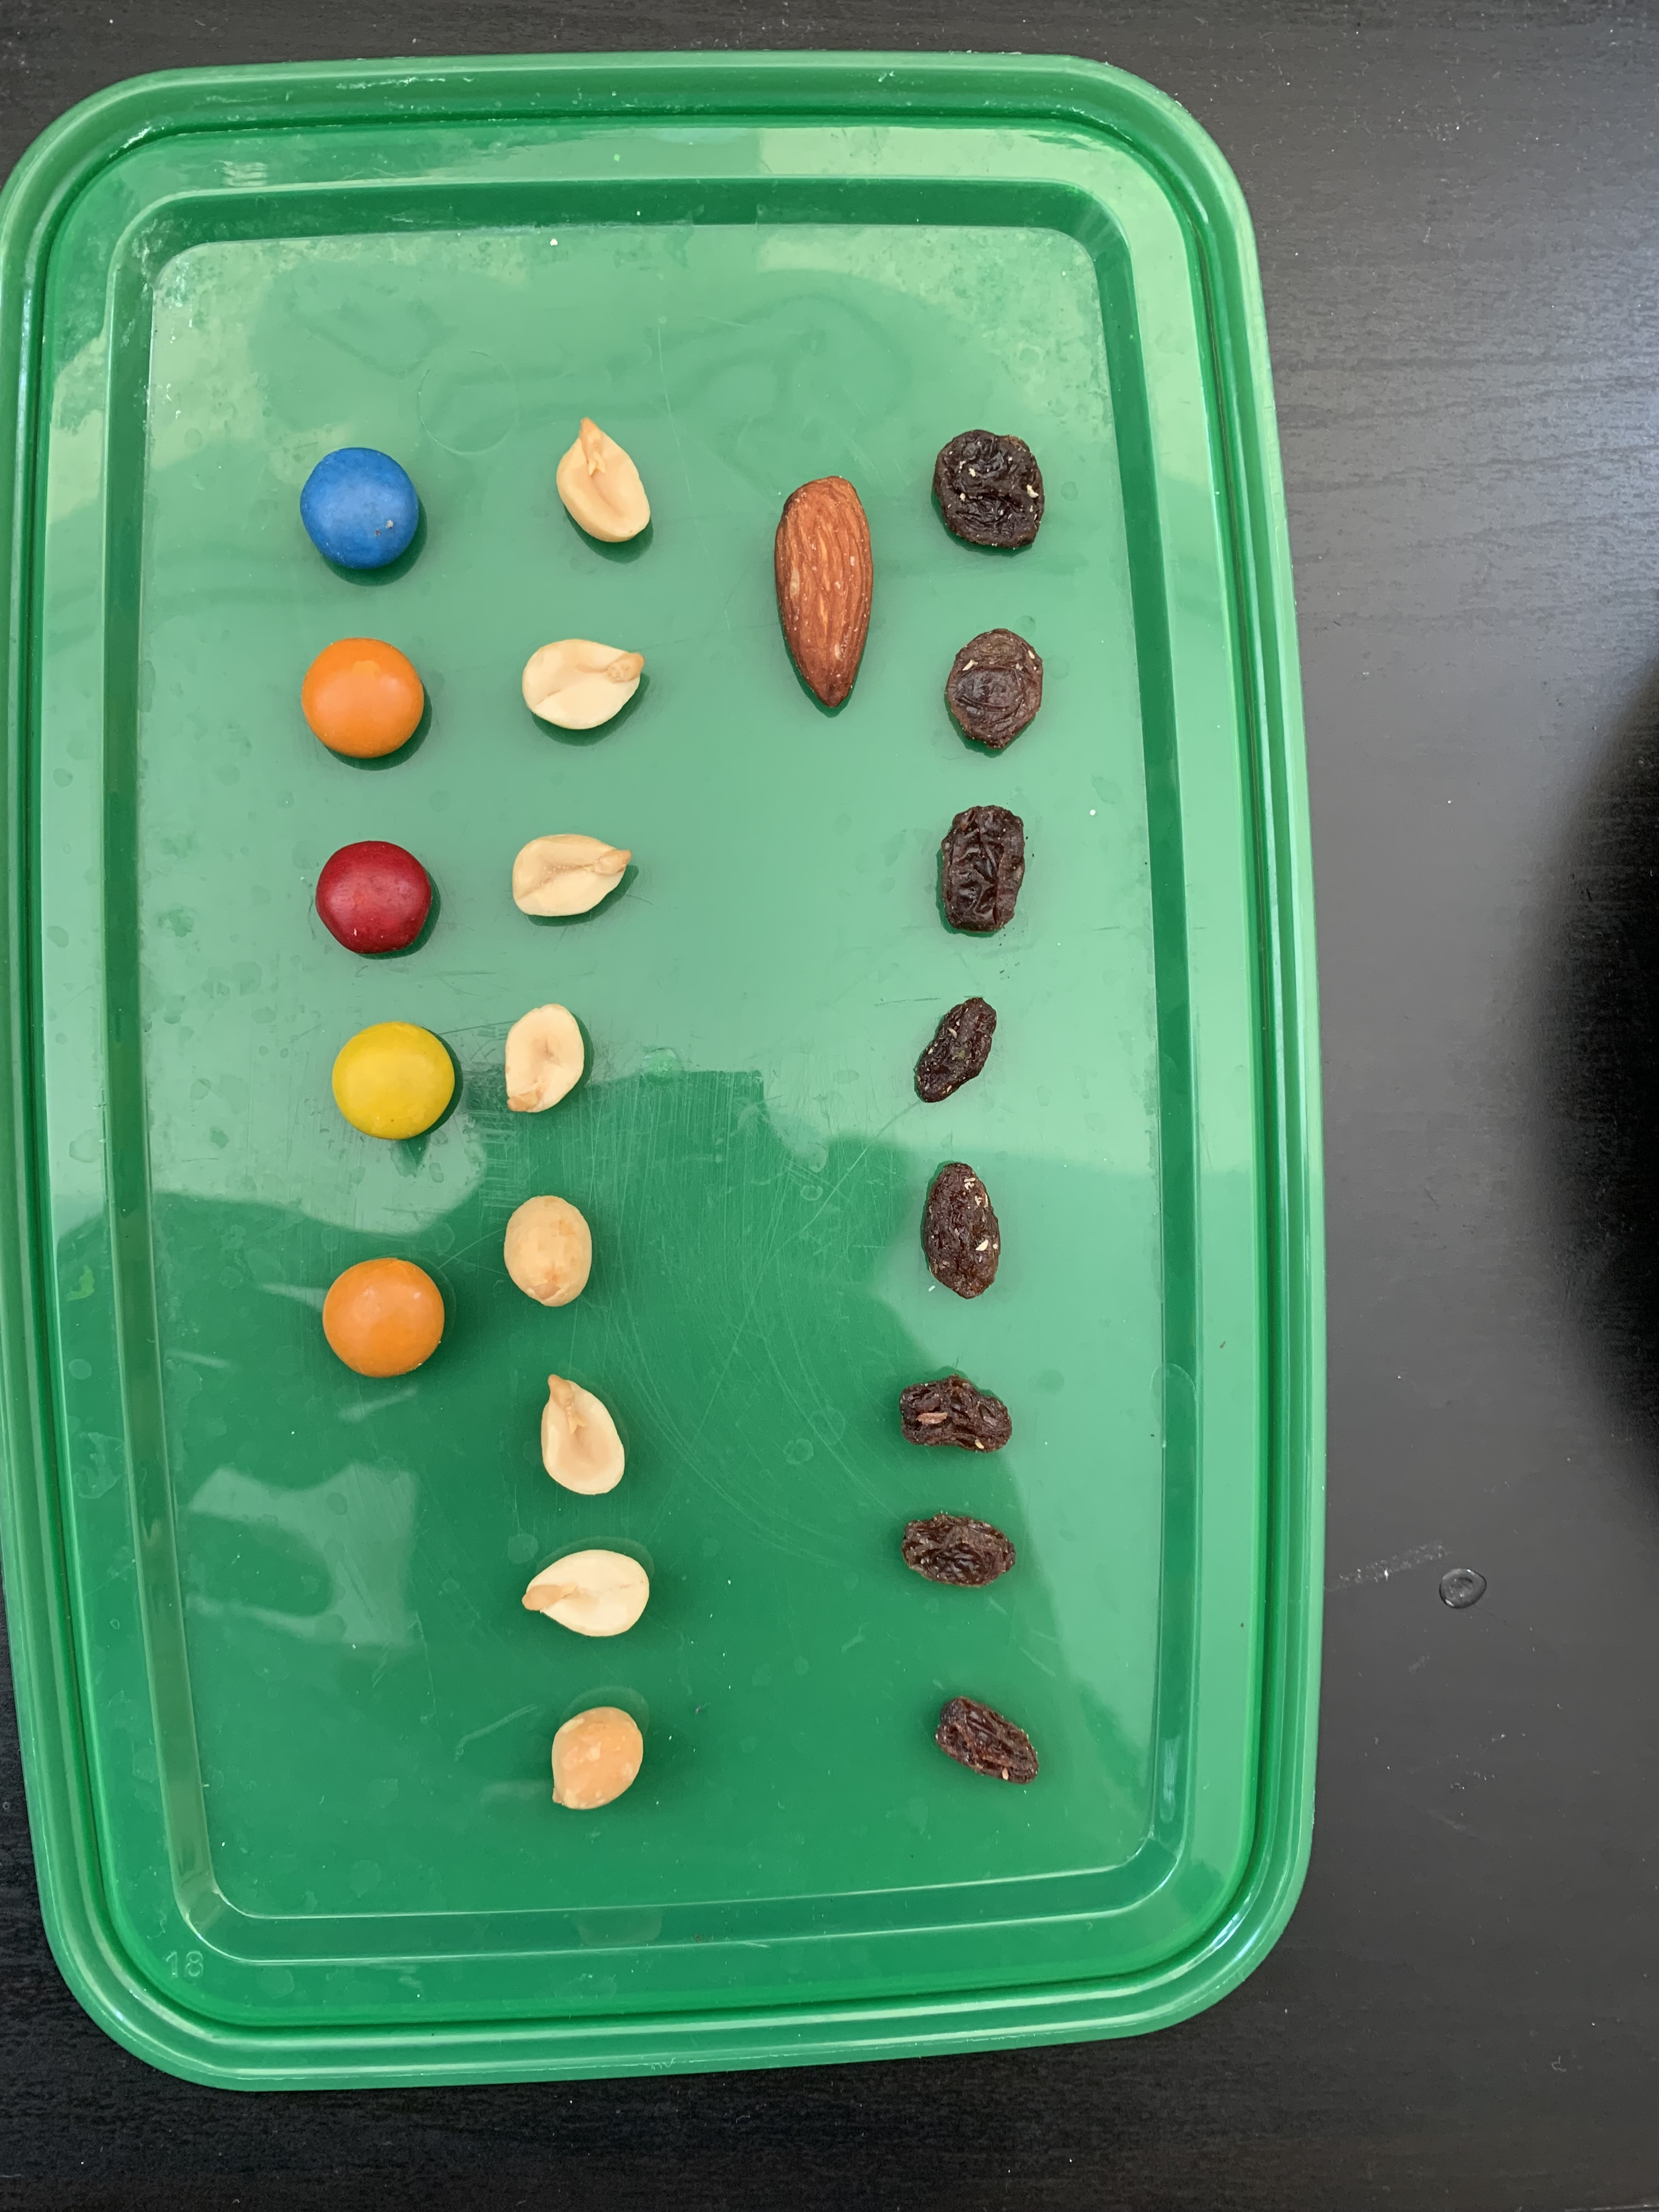almond: (774, 475, 871, 714)
mm: (301, 636, 429, 765), (300, 446, 422, 571), (321, 1256, 446, 1378), (331, 1021, 458, 1139), (317, 841, 437, 958)
peanut: (523, 1548, 653, 1642), (523, 639, 647, 735), (556, 416, 650, 542), (535, 1372, 627, 1500), (500, 1193, 598, 1308), (511, 829, 634, 920), (547, 1705, 645, 1815), (505, 1001, 587, 1115)
raisin: (931, 427, 1046, 556), (943, 627, 1047, 751), (938, 803, 1028, 935), (920, 1160, 1002, 1299), (932, 1695, 1042, 1785), (901, 1510, 1018, 1588), (911, 998, 1000, 1099), (899, 1376, 1012, 1454)
